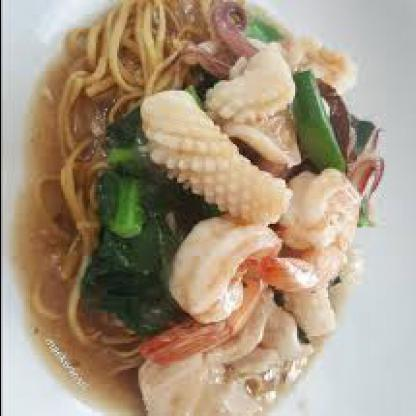Laadna: (21, 8, 387, 404)
